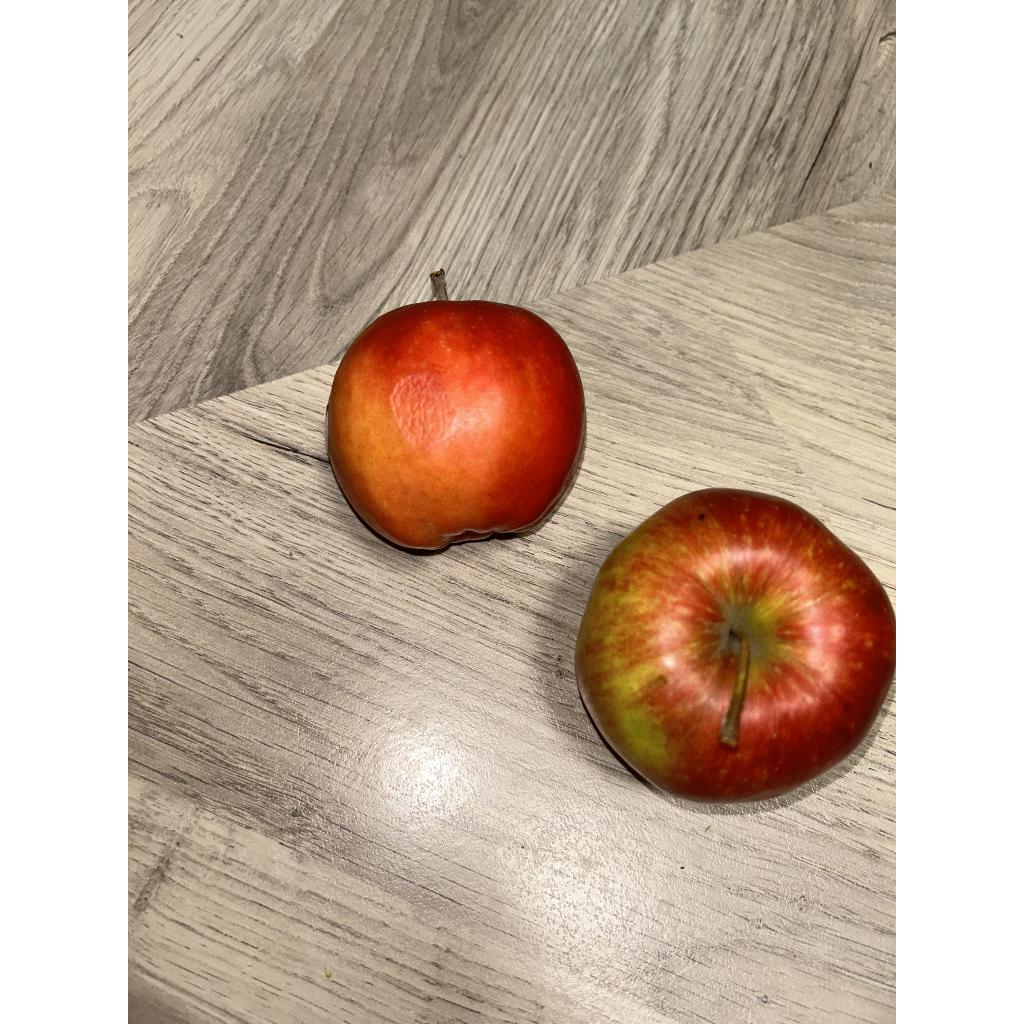apple: (576, 488, 894, 802), (328, 270, 584, 550)
